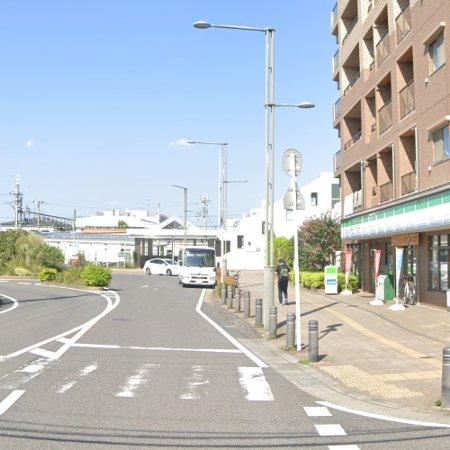buses: (179, 247, 217, 288)
